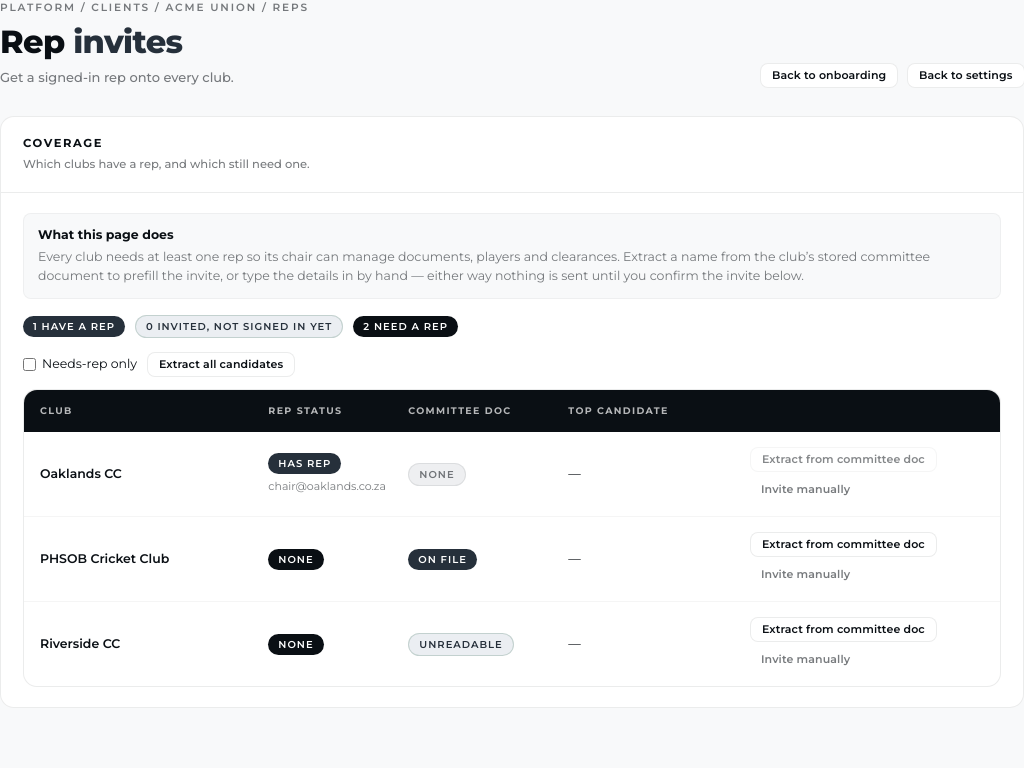
Test: RepsPage › unparseable committee doc opens the invite modal with View document + a blank form
This screenshot has width=1024, height=768.
Expected: the heading "Rep invites" is shown, [0,22,182,61]
Click the button "Extract from committee doc" in the row of "Riverside CC": (843, 629) [750,617,937,642]
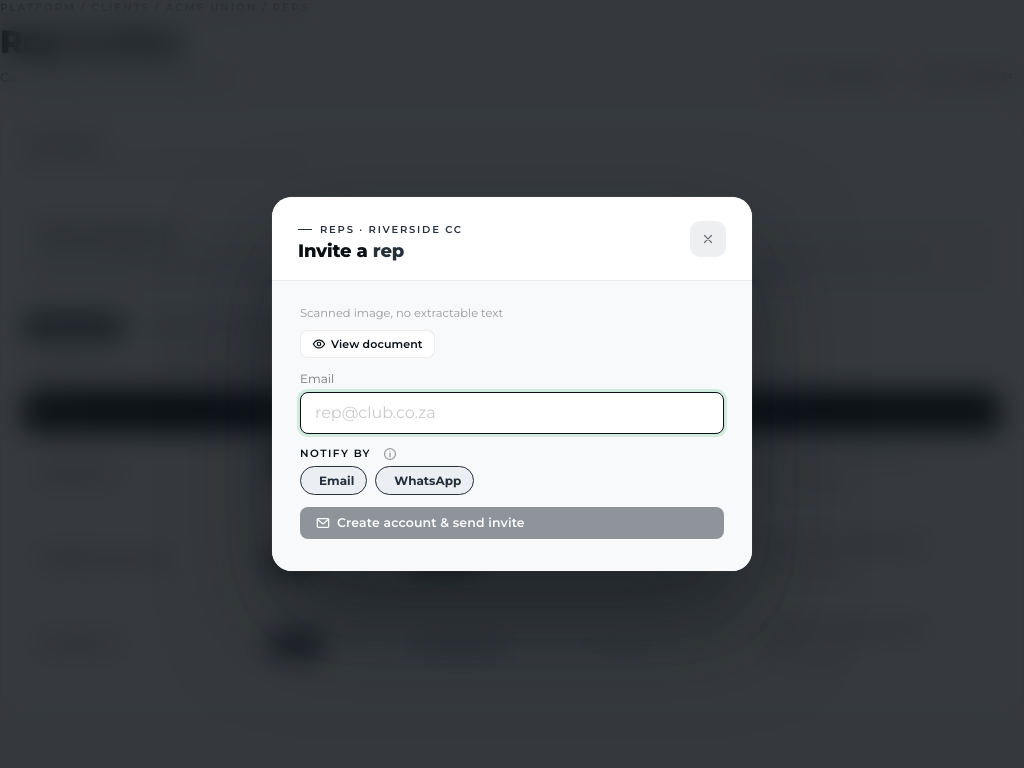
Expected: the text "Invite a rep" is shown, [298,240,404,262]
Expected: the button "View document" is shown, [300,330,435,358]
Expected: the field labelled "Email" is empty, [300,392,724,434]
